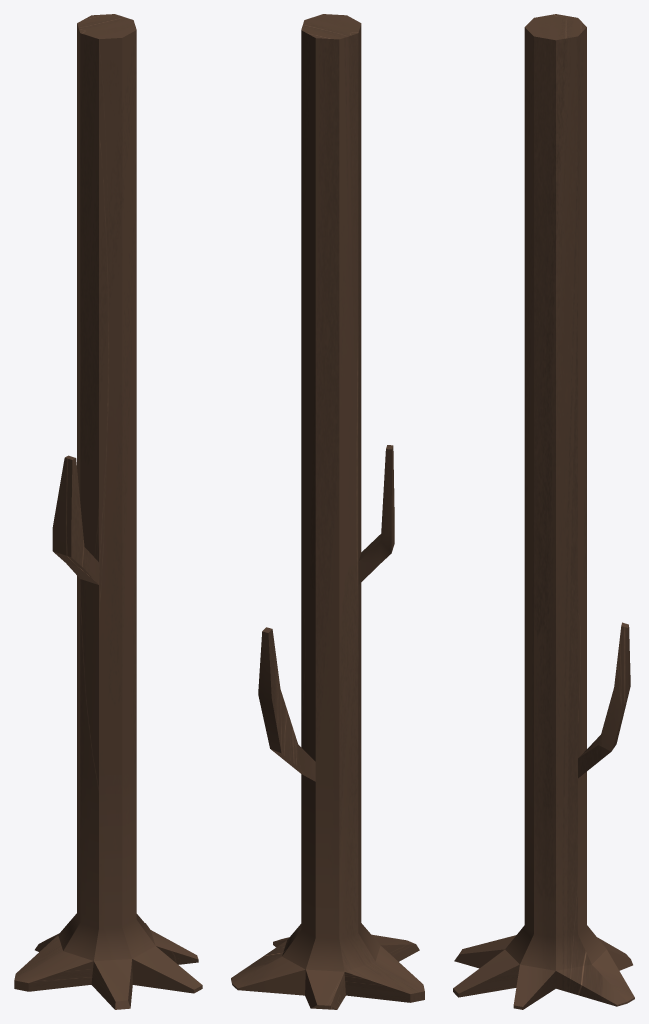
Rendered from tree01.fbx.
3 renders of one model, left to right at view 1: azimuth 30°, elevation 25°; view 2: azimuth 150°, elevation 25°; view 3: azimuth 270°, elevation 25°, orthographic.
Visible parts, largest first — view 1: tree01; view 2: tree01; view 3: tree01.
Part boxes in pixels (bbox=[...]): tree01: bbox=[14, 14, 202, 1009]; tree01: bbox=[231, 14, 424, 1009]; tree01: bbox=[453, 14, 634, 1009].
Size of the model in its own units: 6.24 by 33.62 by 5.84.
